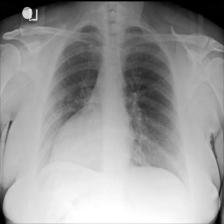normal: (40, 14, 189, 191)
